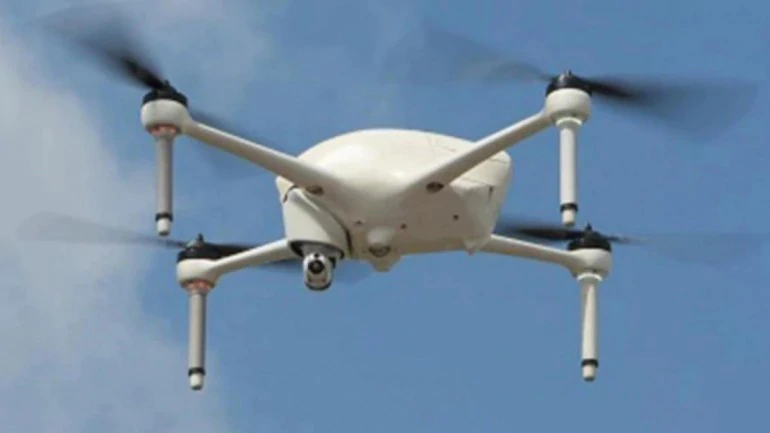drone: (15, 1, 760, 387)
